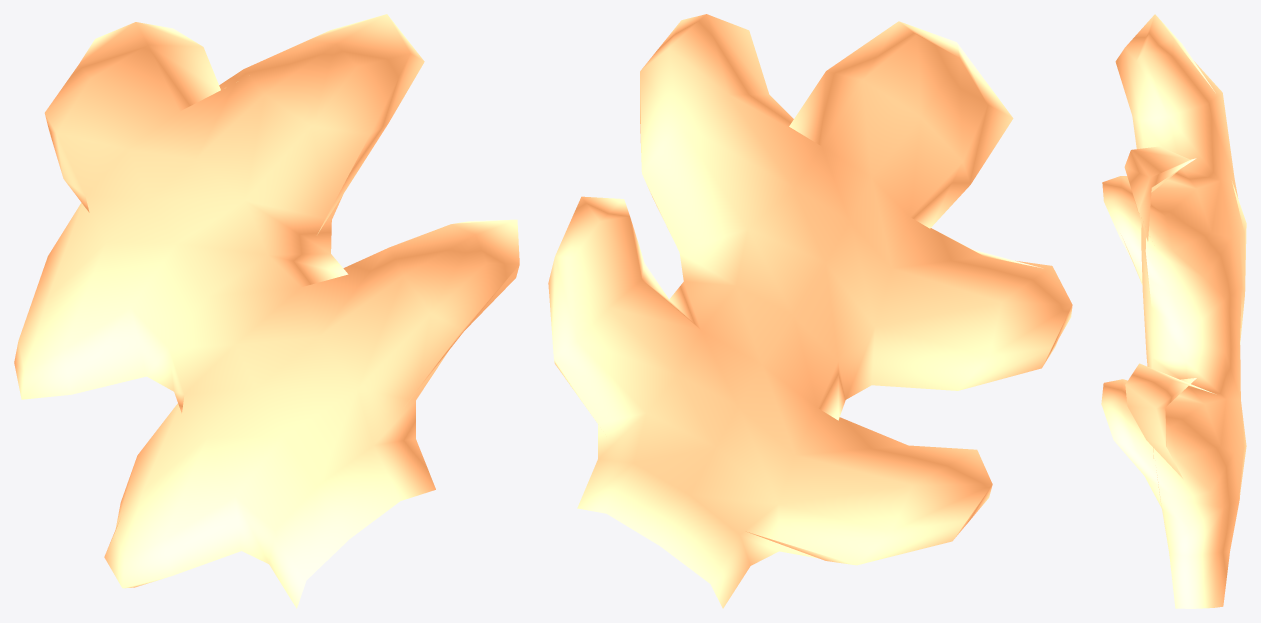
Rendered from object_55_lev3.glb.
3 views of the same model, side by side, from view 1: azimuth 30°, elevation 25°; view 2: azimuth 150°, elevation 25°; view 3: azimuth 270°, elevation 25° (orthographic). The views are drawn at different scales.
Visible parts, largest first — view 1: object_55_lev3; view 2: object_55_lev3; view 3: object_55_lev3.
Boxes of the visible parts, x1,y1,x2,y2 form: object_55_lev3: [14, 14, 519, 608]; object_55_lev3: [548, 14, 1072, 608]; object_55_lev3: [1101, 14, 1246, 608].
Size of the model in its own units: 1.41 by 1.64 by 0.4244.
